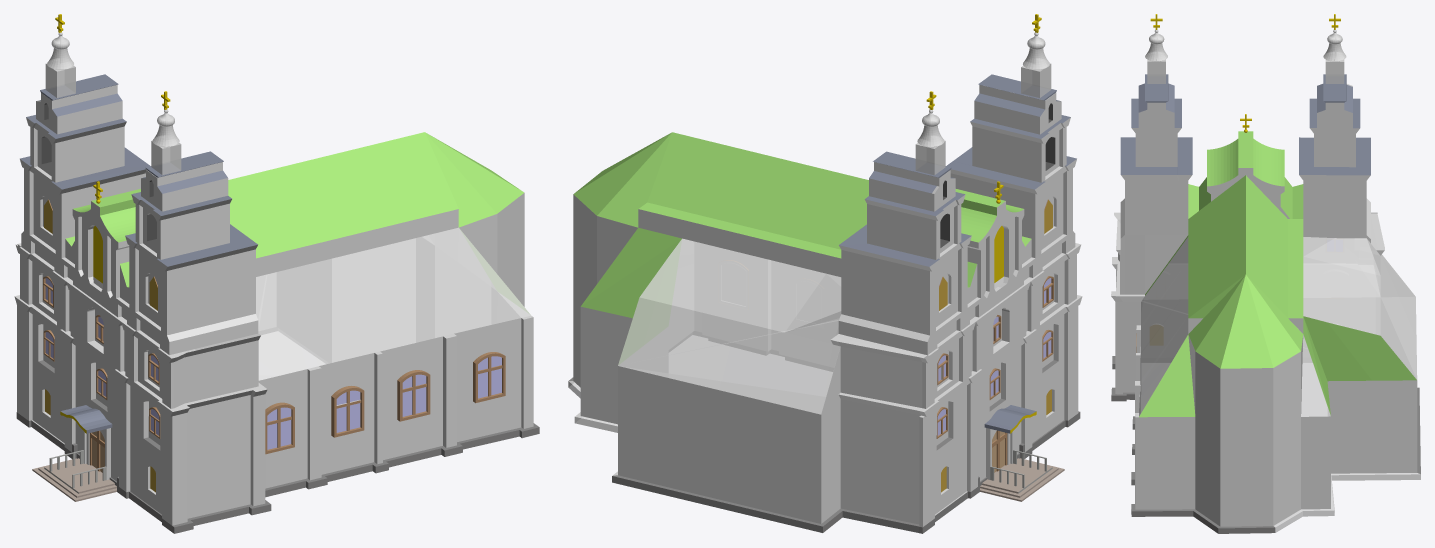
File: Собор+Сошествия+Святого+Духа.glb
The picture shows the model from 3 angles, left to right: view 1: azimuth 30°, elevation 25°; view 2: azimuth 150°, elevation 25°; view 3: azimuth 270°, elevation 25°; orthographic projection. The views are drawn at different scales.
Parts seen in each view (by area): view 1: Node4657, Node4624, Node6831, Node6988, Node6973, Node7018, Node7636, Node7372, Node4586, Node7429, Node4616, Node6838 (+61 smaller); view 2: Node7418, Node4632, Node7391, Node6988, Node7018, Node6812, Node4624, Node7378, Node3853, Node3857, Node3850, Node3855 (+55 smaller); view 3: Node7372, Node4657, Node7107, Node7097, Node4632, Node4600, Node4655, Node6984, Node7411, Node7429, Node7068, Node7005 (+61 smaller).
Part boxes in pixels (bbox=[...]): Node4657: bbox=[228, 132, 458, 258]; Node4624: bbox=[332, 238, 415, 362]; Node6831: bbox=[187, 395, 250, 518]; Node6988: bbox=[454, 318, 521, 441]; Node6973: bbox=[170, 249, 255, 334]; Node7018: bbox=[380, 336, 442, 459]; Node7636: bbox=[319, 353, 374, 474]; Node7372: bbox=[277, 259, 331, 362]; Node4586: bbox=[256, 209, 458, 276]; Node7429: bbox=[435, 246, 490, 337]; Node4616: bbox=[184, 340, 258, 403]; Node6838: bbox=[258, 369, 307, 488]; Node7418: bbox=[618, 366, 821, 523]; Node4632: bbox=[647, 132, 868, 249]; Node7391: bbox=[840, 399, 920, 524]; Node6988: bbox=[703, 244, 767, 350]; Node7018: bbox=[779, 263, 840, 367]; Node6812: bbox=[841, 250, 914, 331]; Node4624: bbox=[580, 307, 632, 424]; Node7378: bbox=[840, 346, 922, 407]; Node3853: bbox=[618, 321, 735, 390]; Node3857: bbox=[720, 344, 832, 414]; Node3850: bbox=[618, 297, 735, 365]; Node3855: bbox=[719, 321, 832, 389]; Node7372: bbox=[1327, 380, 1417, 473]; Node4657: bbox=[1188, 175, 1245, 317]; Node7107: bbox=[1135, 417, 1195, 509]; Node7097: bbox=[1220, 433, 1273, 526]; Node4632: bbox=[1246, 175, 1287, 317]; Node4600: bbox=[1303, 180, 1366, 238]; Node4655: bbox=[1220, 368, 1273, 434]; Node6984: bbox=[1125, 180, 1188, 234]; Node7411: bbox=[1301, 416, 1330, 509]; Node7429: bbox=[1273, 417, 1300, 525]; Node7068: bbox=[1195, 417, 1220, 526]; Node7005: bbox=[1139, 334, 1195, 417].
Bounding box in the file's own units: 1436 × 1252 × 992.
